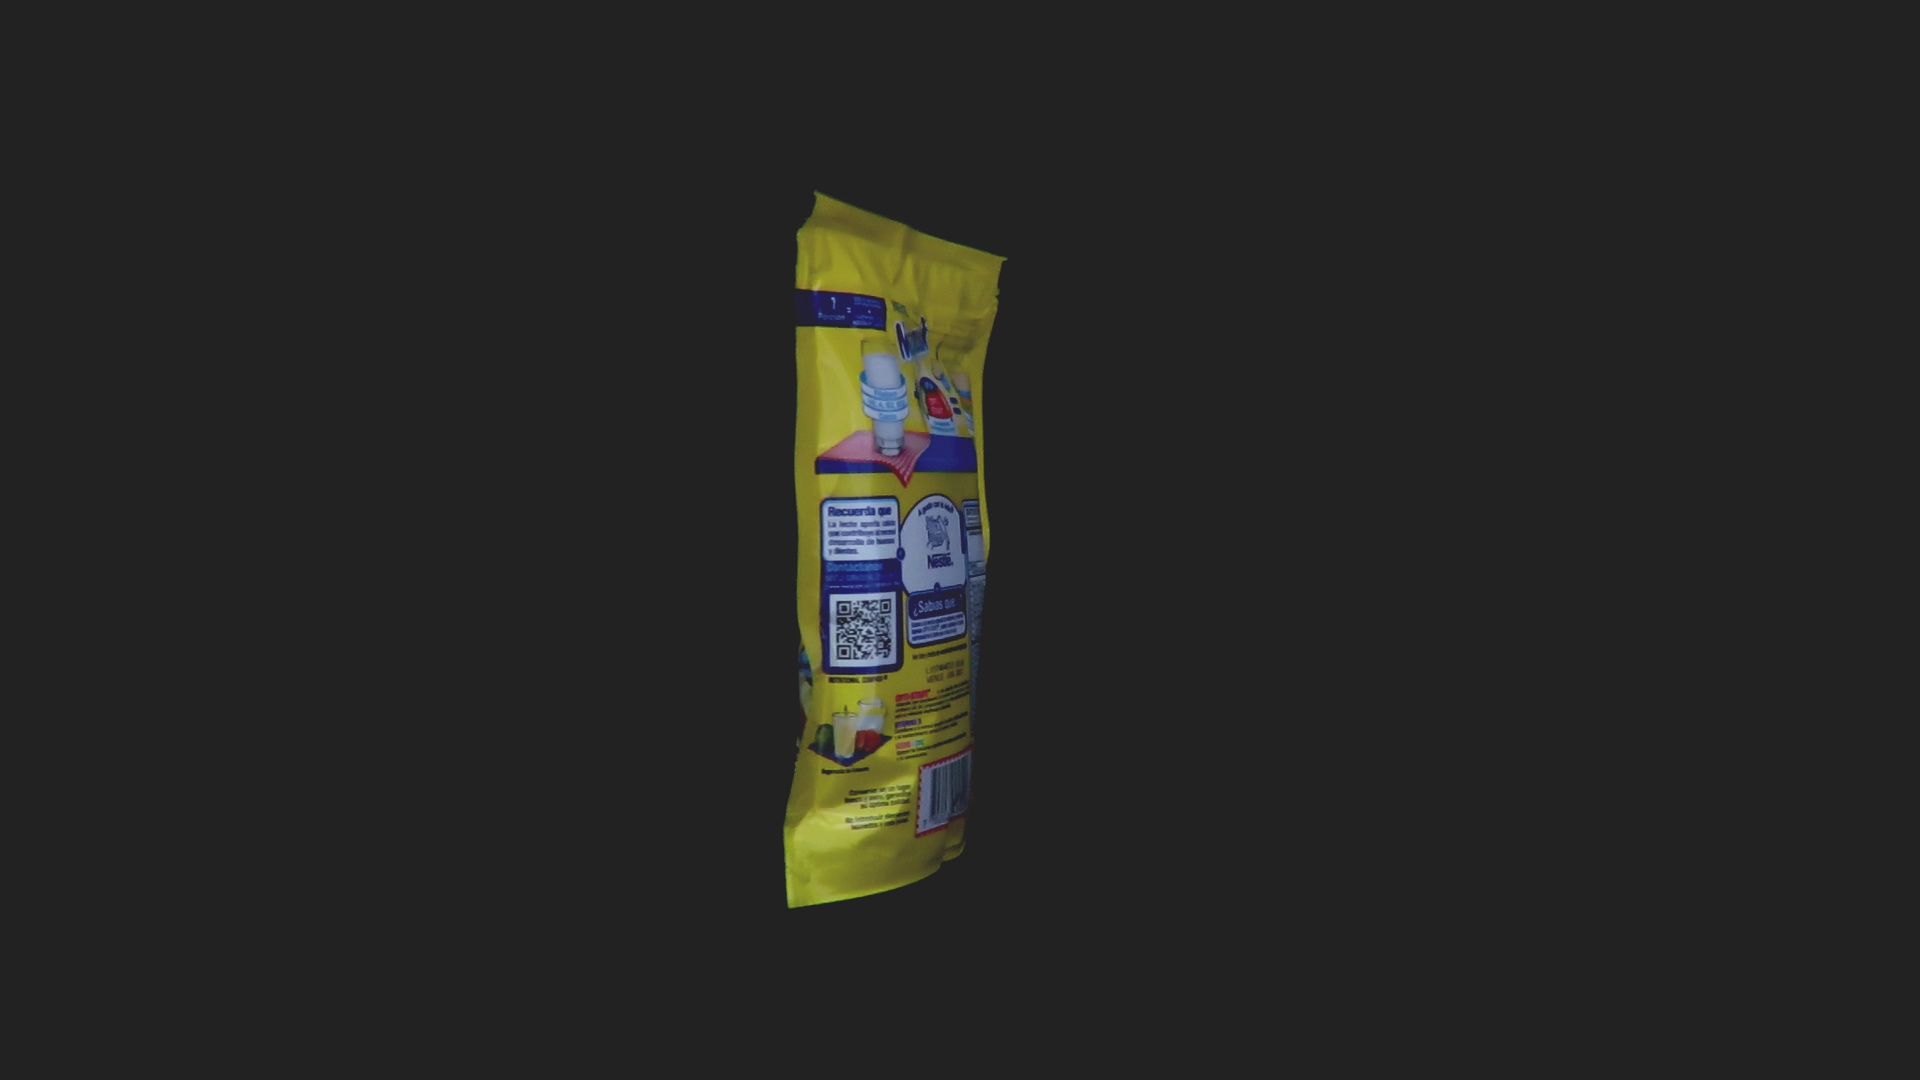COL0170306DYP20000: (778, 185, 1013, 915)
